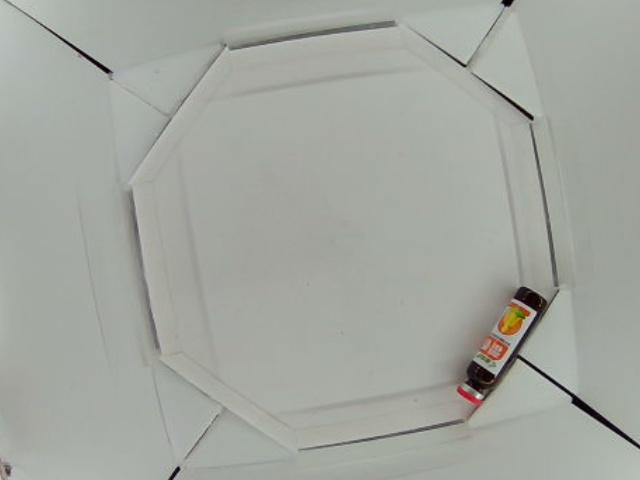Medicine: (457, 287, 550, 403)
